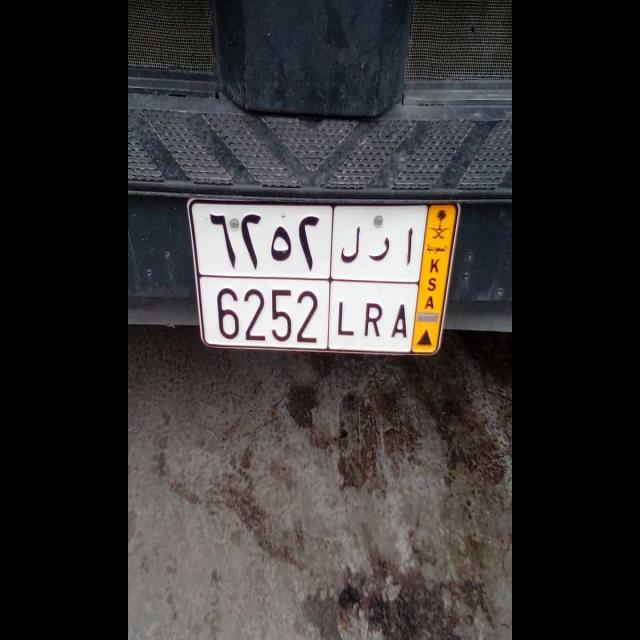license_plate: (197, 274, 417, 362)
